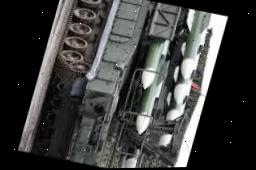rszo: (26, 0, 221, 169)
